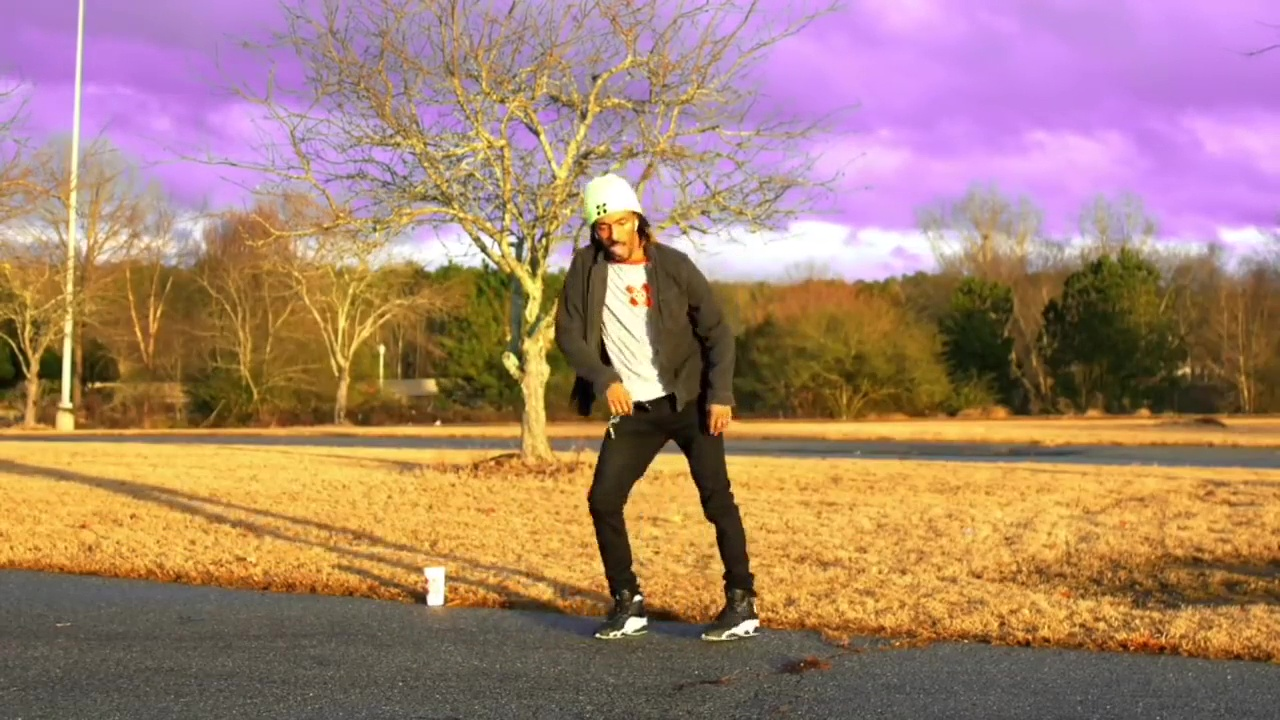Head: (579, 169, 652, 262)
Hip: (605, 388, 741, 457)
LeftAnkle: (696, 575, 767, 653)
LeftElbow: (690, 307, 741, 360)
LeftKnee: (683, 466, 743, 529)
LeftShoulder: (645, 234, 705, 292)
LeftWrist: (696, 391, 750, 448)
RightAnkle: (588, 579, 656, 646)
RightElbow: (547, 316, 599, 363)
RightKnee: (580, 471, 637, 534)
RightShoulder: (565, 240, 613, 293)
RightWrist: (589, 372, 644, 426)
Torso: (573, 254, 705, 399)
